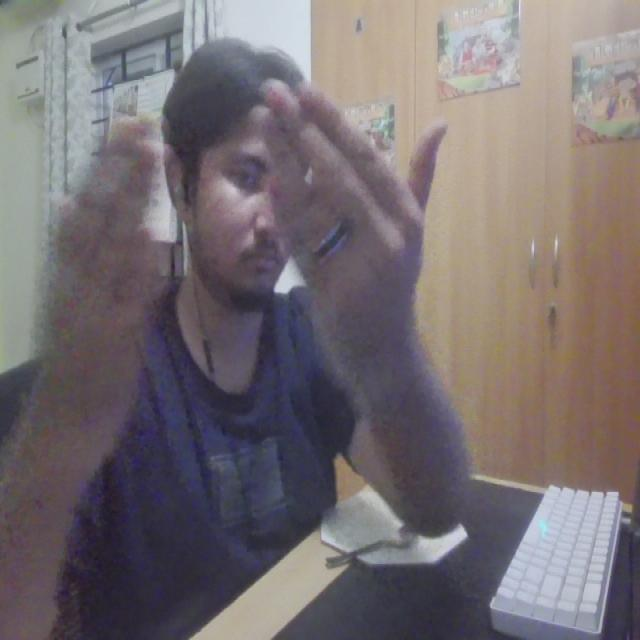thankyou: (22, 75, 452, 458)
